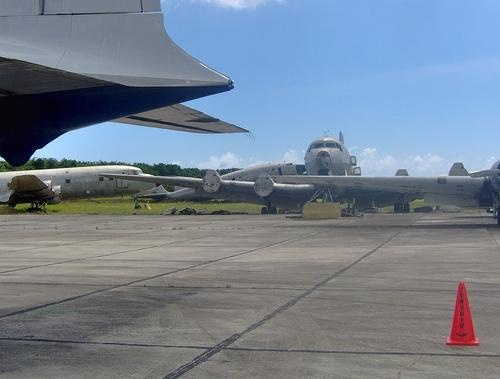aeroplane: (1, 2, 257, 168), (98, 133, 498, 215), (263, 166, 500, 214), (1, 158, 164, 217)
